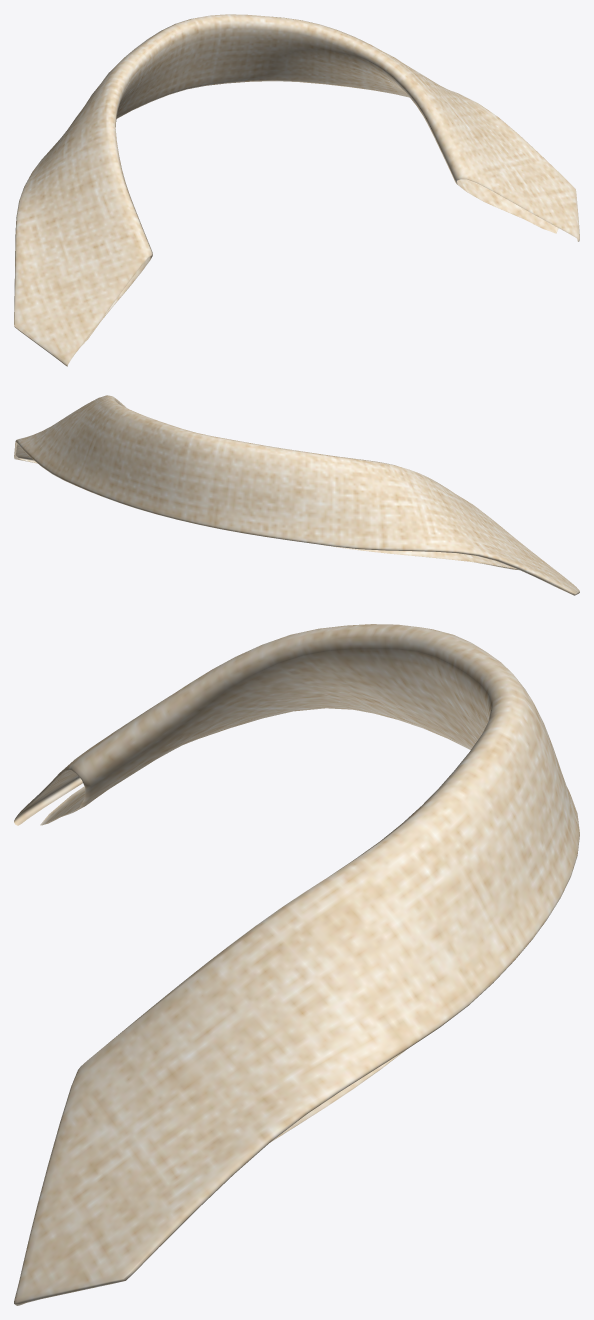
Rendered from Notch_Collar.glb.
3 views of the same model, one above another, from view 1: azimuth 30°, elevation 25°; view 2: azimuth 150°, elevation 25°; view 3: azimuth 270°, elevation 25° (orthographic). The views are drawn at different scales.
Visible parts, largest first — view 1: Notch_Collar; view 2: Notch_Collar; view 3: Notch_Collar.
Part boxes in pixels (x1,y1,x2,y2): Notch_Collar: [14, 14, 579, 366]; Notch_Collar: [14, 395, 579, 595]; Notch_Collar: [14, 624, 579, 1305].
Size of the model in its own units: 0.0363 by 0.0118 by 0.0164.
Materials: 1 (1 with a texture image).
